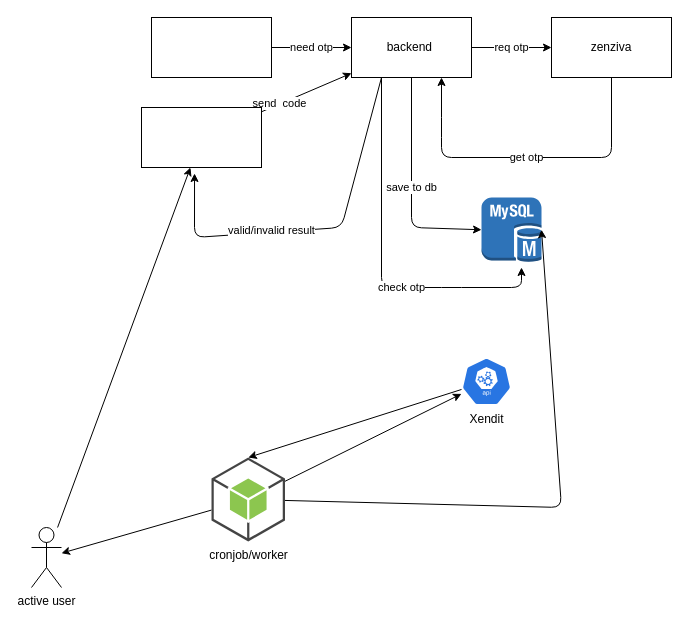
The diagram is 689 pixels wide and 626 high, and some of its shapes have lost their labels. The shapes that lost their labels are listed below. From the top down, each one's box as (x1, y1, x2, y2) in pixels, then its label:
(150, 16, 272, 78): user/register
(140, 106, 262, 168): user verify otp
